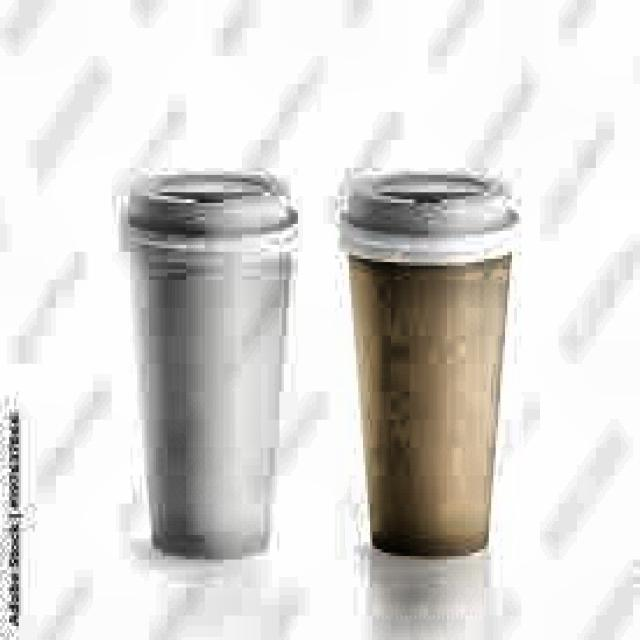Cup: (336, 209, 522, 582), (116, 198, 300, 570)
